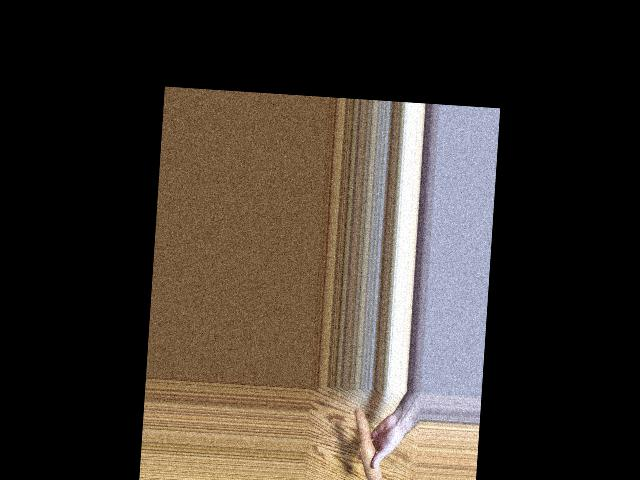sweet_potato: (355, 404, 382, 480)
